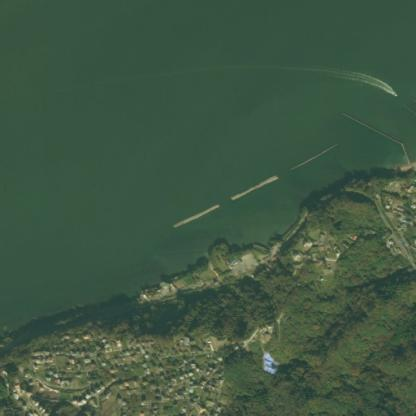ship: (386, 86, 400, 101)
